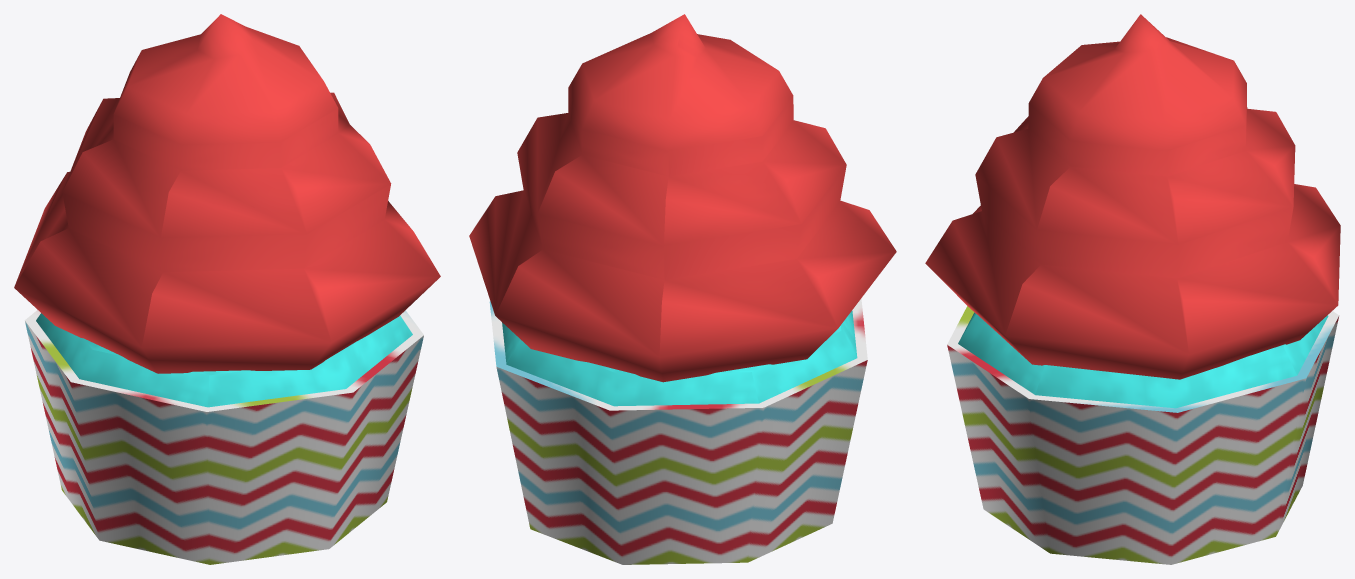
The model's file is Cupcake_A_17.FBX.
3 views of the same model, side by side, from view 1: azimuth 30°, elevation 25°; view 2: azimuth 150°, elevation 25°; view 3: azimuth 270°, elevation 25° (orthographic).
Parts seen in each view (by area): view 1: Cupcake; view 2: Cupcake; view 3: Cupcake.
Part boxes in pixels (left/top/right/bottom): Cupcake: left=14, top=14, right=440, bottom=564; Cupcake: left=469, top=14, right=896, bottom=564; Cupcake: left=925, top=14, right=1340, bottom=564.
Size of the model in its own units: 34.42 by 43.01 by 33.65.
